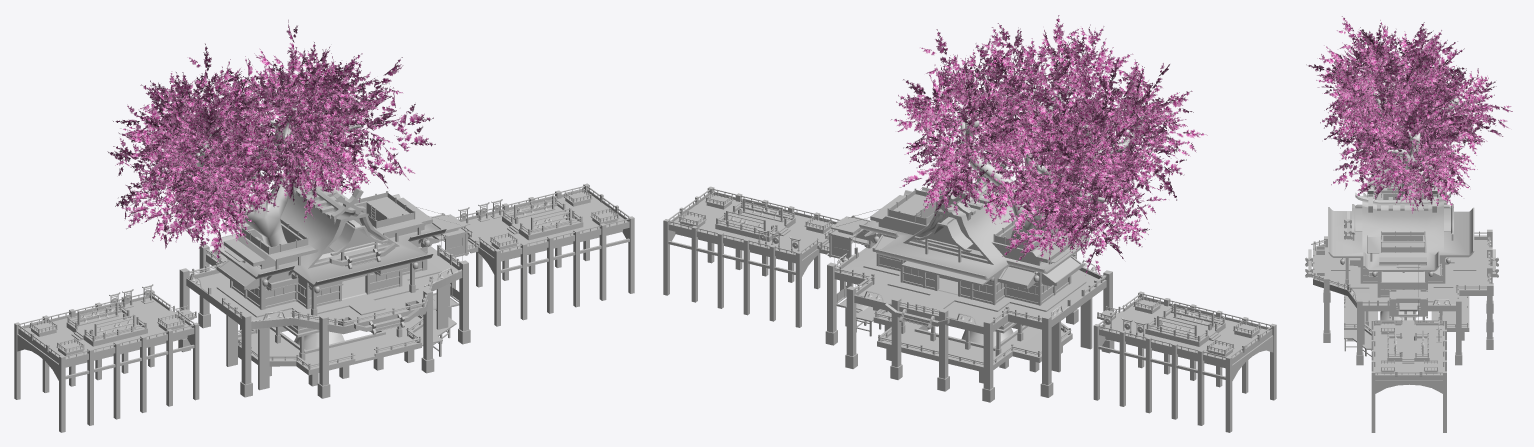
Rendered from Palace_Final.fbx.
3 views of the same model, side by side, from view 1: azimuth 30°, elevation 25°; view 2: azimuth 150°, elevation 25°; view 3: azimuth 270°, elevation 25° (orthographic). The views are drawn at different scales.
Visible parts, largest first — view 1: Palace_GreatTreeLeaf, Palace_MainBuilding, Platform_MainPillar, Platform_MainBase, Palace_Base2_MainPillar, Palace_Base2_Floor, Palace_Base1_Base, Palace_Base2_Pillar2, Palace_Base1_LiftPillar, Palace_Base2_Roof1, Platform_Acc, Palace_Base2_Acc1 (+6 smaller); view 2: Palace_GreatTreeLeaf, Palace_MainBuilding, Platform_MainPillar, Platform_MainBase, Palace_Base2_MainPillar, Palace_Base2_Floor, Palace_Base1_Base, Palace_Base2_Roof1, Palace_Base2_Pillar2, Platform_Acc, Platform_Fence1, Palace_Base1_LiftPlatform2 (+6 smaller); view 3: Palace_GreatTreeLeaf, Palace_MainBuilding, Platform_MainBase, Palace_Base2_Floor, Palace_Base2_MainPillar, Platform_MainPillar, Palace_Base1_Base, Palace_Base2_Roof1, Palace_Base2_Pillar2, Palace_Base1_LiftPlatform2, Palace_Base2_Acc1, Palace_Base2_Fence1 (+4 smaller).
Boxes of the visible parts, x1,y1,x2,y2 form: Palace_GreatTreeLeaf: [107, 19, 435, 349]; Palace_MainBuilding: [212, 176, 446, 317]; Platform_MainPillar: [14, 183, 634, 432]; Platform_MainBase: [18, 189, 629, 367]; Palace_Base2_MainPillar: [178, 244, 470, 398]; Palace_Base2_Floor: [186, 246, 462, 334]; Palace_Base1_Base: [238, 315, 423, 375]; Palace_Base2_Pillar2: [230, 191, 427, 315]; Palace_Base1_LiftPillar: [226, 284, 448, 390]; Palace_Base2_Roof1: [217, 235, 439, 325]; Platform_Acc: [77, 195, 572, 338]; Palace_Base2_Acc1: [191, 237, 451, 334]; Palace_GreatTreeLeaf: [890, 15, 1207, 346]; Palace_MainBuilding: [859, 157, 1089, 311]; Platform_MainPillar: [663, 186, 1276, 432]; Platform_MainBase: [668, 191, 1272, 368]; Palace_Base2_MainPillar: [825, 252, 1114, 402]; Palace_Base2_Floor: [834, 242, 1106, 334]; Palace_Base1_Base: [873, 310, 1072, 372]; Palace_Base2_Roof1: [864, 231, 1083, 288]; Palace_Base2_Pillar2: [876, 188, 1071, 305]; Platform_Acc: [726, 198, 1214, 339]; Platform_Fence1: [668, 188, 1272, 359]; Palace_Base1_LiftPlatform2: [831, 216, 869, 326]; Palace_GreatTreeLeaf: [1306, 16, 1512, 320]; Palace_MainBuilding: [1328, 180, 1476, 302]; Platform_MainBase: [1374, 154, 1444, 379]; Palace_Base2_Floor: [1313, 236, 1490, 311]; Palace_Base2_MainPillar: [1323, 229, 1493, 365]; Platform_MainPillar: [1371, 153, 1446, 432]; Palace_Base1_Base: [1344, 295, 1469, 335]; Palace_Base2_Roof1: [1316, 246, 1454, 285]; Palace_Base2_Pillar2: [1345, 189, 1453, 297]; Palace_Base1_LiftPlatform2: [1391, 290, 1426, 322]; Palace_Base2_Acc1: [1305, 211, 1498, 304]; Palace_Base2_Fence1: [1311, 232, 1490, 303].
Size of the model in its own units: 5557 by 3035 by 2258.
